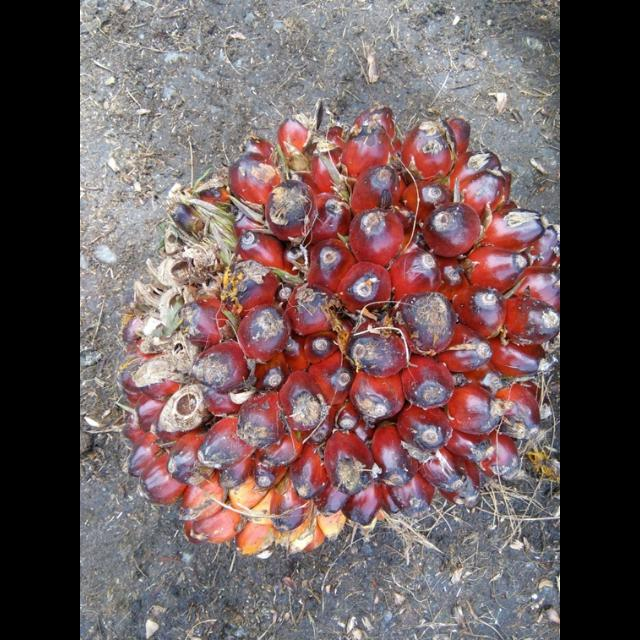Ripe: (122, 101, 559, 555)
